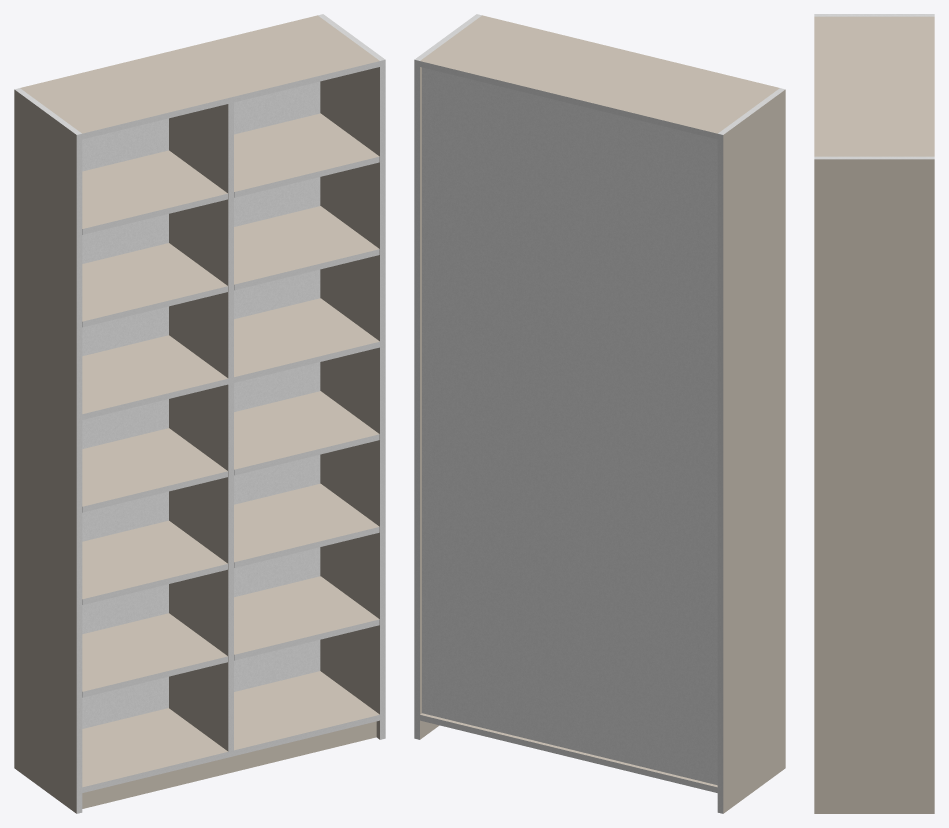
File: CAL-BKC-tall.glb
3 renders of one model, left to right at view 1: azimuth 30°, elevation 25°; view 2: azimuth 150°, elevation 25°; view 3: azimuth 270°, elevation 25°, orthographic. The views are drawn at different scales.
Visible parts, largest first — view 1: side-l:pbr, back:sheet:eyJtIjoibWRmIiwic2lkZSI6ImZhY2UiLCJzZWVkIjowLCJ0a, partition:pbr, side-r:pbr, top:pbr, bottom:pbr, shelf-fixedl:pbr, shelf-fixedr:pbr, shelf-1:pbr, shelf-7:pbr, shelf-9:pbr, shelf-3:pbr (+24 smaller); view 2: back:sheet:eyJtIjoibWRmIiwic2lkZSI6ImZhY2UiLCJzZWVkIjowLCJ0a, side-l:pbr, top:pbr, side-l:sheet:eyJtIjoibWRmIiwic2lkZSI6ImVkZ2UtbG9uZyIsInNlZWQ, side-r:sheet:eyJtIjoibWRmIiwic2lkZSI6ImVkZ2UtbG9uZyIsInNlZWQ, top:sheet:eyJtIjoibWRmIiwic2lkZSI6ImVkZ2UtbG9uZyIsInNlZWQiOj, bottom:sheet:eyJtIjoibWRmIiwic2lkZSI6ImVkZ2UtbG9uZyIsInNlZWQ, side-r:pbr, bottom:pbr; view 3: side-r:pbr, top:pbr, side-r:sheet:eyJtIjoibWRmIiwic2lkZSI6ImVkZ2UtZW5kIiwic2VlZCI, side-l:sheet:eyJtIjoibWRmIiwic2lkZSI6ImVkZ2UtZW5kIiwic2VlZCI.
Boxes of the visible parts, x1=… form: side-l:pbr: x1=14, y1=89, x2=76, y2=813; back:sheet:eyJtIjoibWRmIiwic2lkZSI6ImZhY2UiLCJzZWVkIjowLCJ0a: x1=82, y1=81, x2=320, y2=728; partition:pbr: x1=169, y1=104, x2=228, y2=751; side-r:pbr: x1=320, y1=67, x2=379, y2=739; top:pbr: x1=20, y1=15, x2=379, y2=133; bottom:pbr: x1=82, y1=671, x2=379, y2=787; shelf-fixedl:pbr: x1=82, y1=335, x2=227, y2=413; shelf-fixedr:pbr: x1=234, y1=298, x2=379, y2=376; shelf-1:pbr: x1=82, y1=613, x2=227, y2=691; shelf-7:pbr: x1=82, y1=243, x2=227, y2=321; shelf-9:pbr: x1=82, y1=150, x2=227, y2=228; shelf-3:pbr: x1=82, y1=520, x2=227, y2=599; back:sheet:eyJtIjoibWRmIiwic2lkZSI6ImZhY2UiLCJzZWVkIjowLCJ0a: x1=422, y1=67, x2=717, y2=785; side-l:pbr: x1=723, y1=89, x2=785, y2=813; top:pbr: x1=420, y1=15, x2=779, y2=133; side-l:sheet:eyJtIjoibWRmIiwic2lkZSI6ImVkZ2UtbG9uZyIsInNlZWQ: x1=717, y1=134, x2=723, y2=813; side-r:sheet:eyJtIjoibWRmIiwic2lkZSI6ImVkZ2UtbG9uZyIsInNlZWQ: x1=414, y1=59, x2=419, y2=739; top:sheet:eyJtIjoibWRmIiwic2lkZSI6ImVkZ2UtbG9uZyIsInNlZWQiOj: x1=420, y1=61, x2=717, y2=139; bottom:sheet:eyJtIjoibWRmIiwic2lkZSI6ImVkZ2UtbG9uZyIsInNlZWQ: x1=420, y1=715, x2=717, y2=792; side-r:pbr: x1=420, y1=67, x2=439, y2=739; bottom:pbr: x1=420, y1=713, x2=717, y2=787; side-r:pbr: x1=814, y1=159, x2=934, y2=813; top:pbr: x1=814, y1=16, x2=934, y2=156; side-r:sheet:eyJtIjoibWRmIiwic2lkZSI6ImVkZ2UtZW5kIiwic2VlZCI: x1=814, y1=156, x2=934, y2=159; side-l:sheet:eyJtIjoibWRmIiwic2lkZSI6ImVkZ2UtZW5kIiwic2VlZCI: x1=814, y1=14, x2=934, y2=16.
Size of the model in its own units: 1 by 2.1 by 0.35.
Materials: 57 (39 with a texture image).
